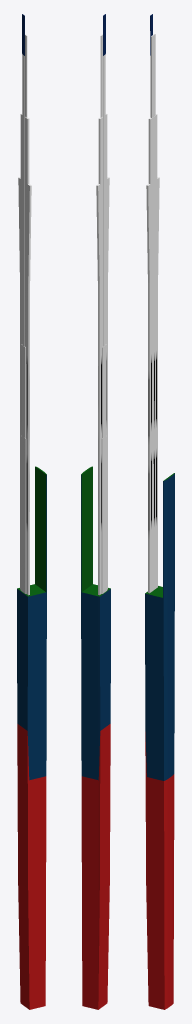
Rendered from TankerNormXY.glb.
3 views of the same model, side by side, from view 1: azimuth 30°, elevation 25°; view 2: azimuth 150°, elevation 25°; view 3: azimuth 330°, elevation 25° (orthographic).
Parts seen in each view (by area): view 1: Tanker; view 2: Tanker; view 3: Tanker.
Part boxes in pixels (bbox=[...]): Tanker: bbox=[17, 14, 46, 1009]; Tanker: bbox=[81, 14, 110, 1009]; Tanker: bbox=[145, 14, 174, 1009].
Bounding box in the file's own units: 1.01 × 48.72 × 1.03.
Materials: 1 (1 with a texture image).
